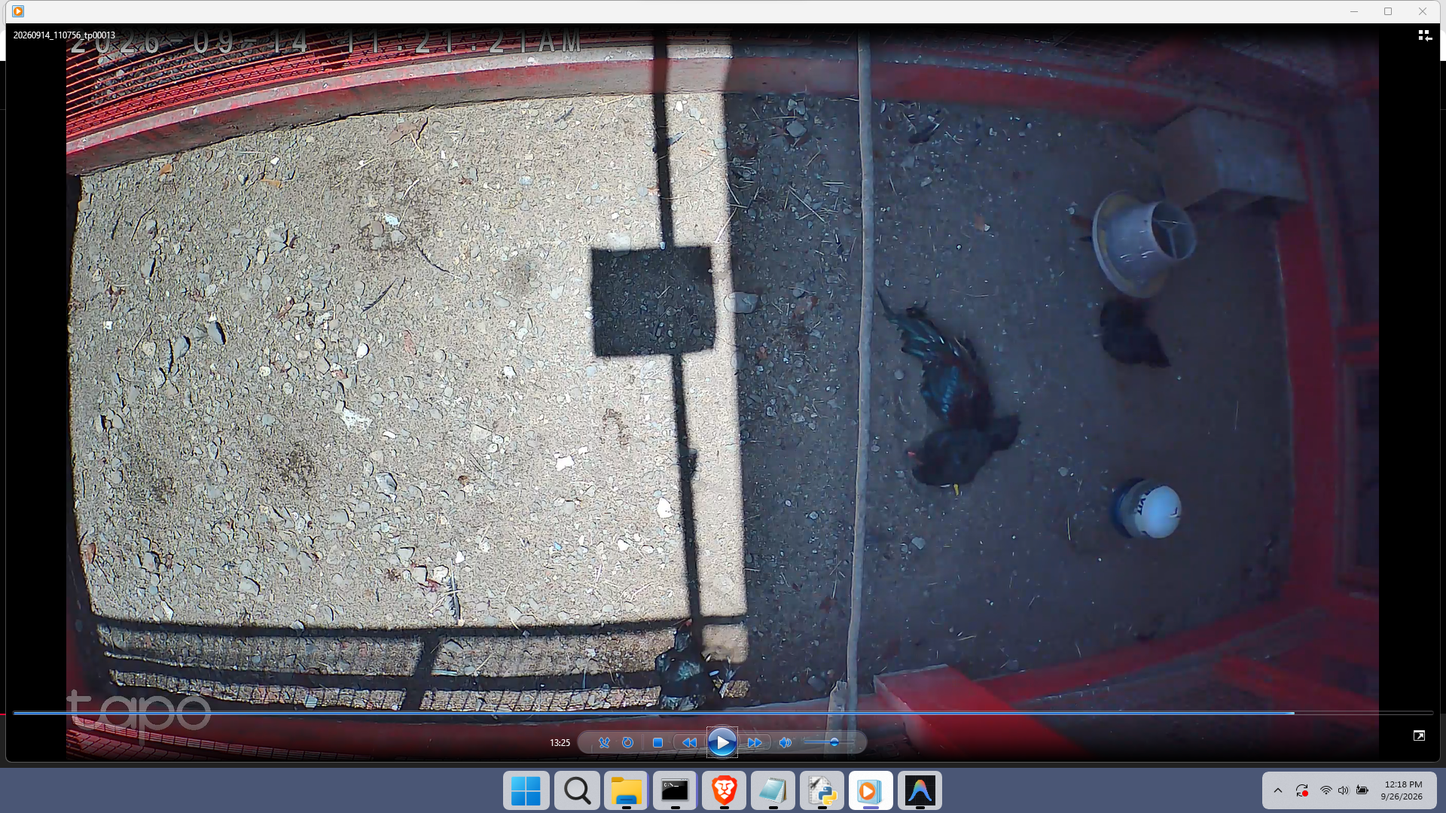Chicken: (655, 612, 744, 720), (908, 414, 1021, 498), (1091, 295, 1178, 376)
Drinker: (1109, 476, 1187, 543)
Feeder: (1091, 187, 1199, 300)
Leg_Band_White: (709, 669, 719, 677)
Leg_Band_Yellow: (953, 483, 961, 496)
Rooster: (873, 286, 993, 433)
